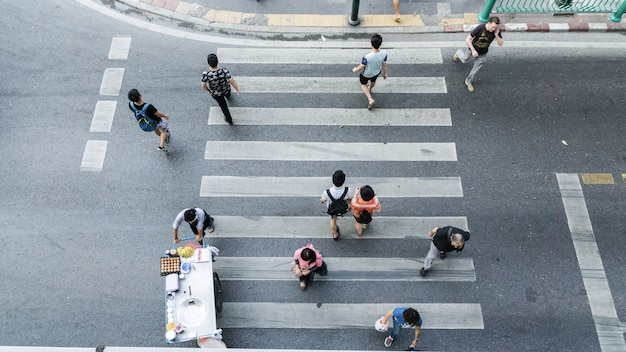Crosswalk: (201, 112, 466, 191)
